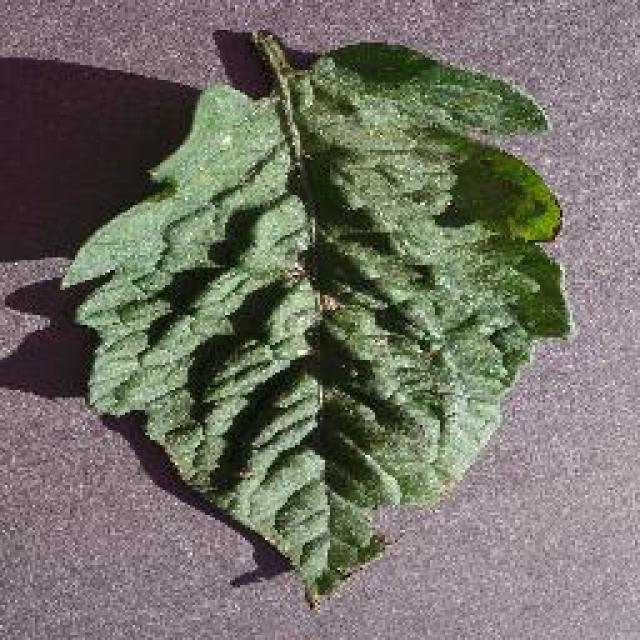Tomato___Target_Spot: (62, 30, 570, 605)
